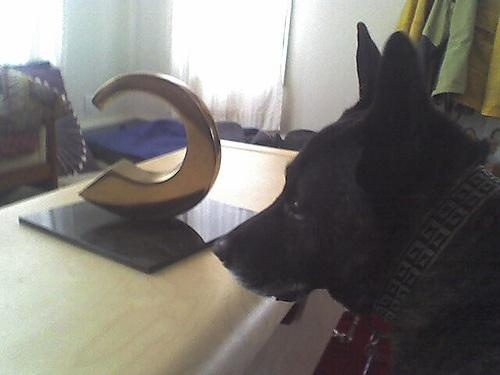dog: (215, 21, 500, 375)
